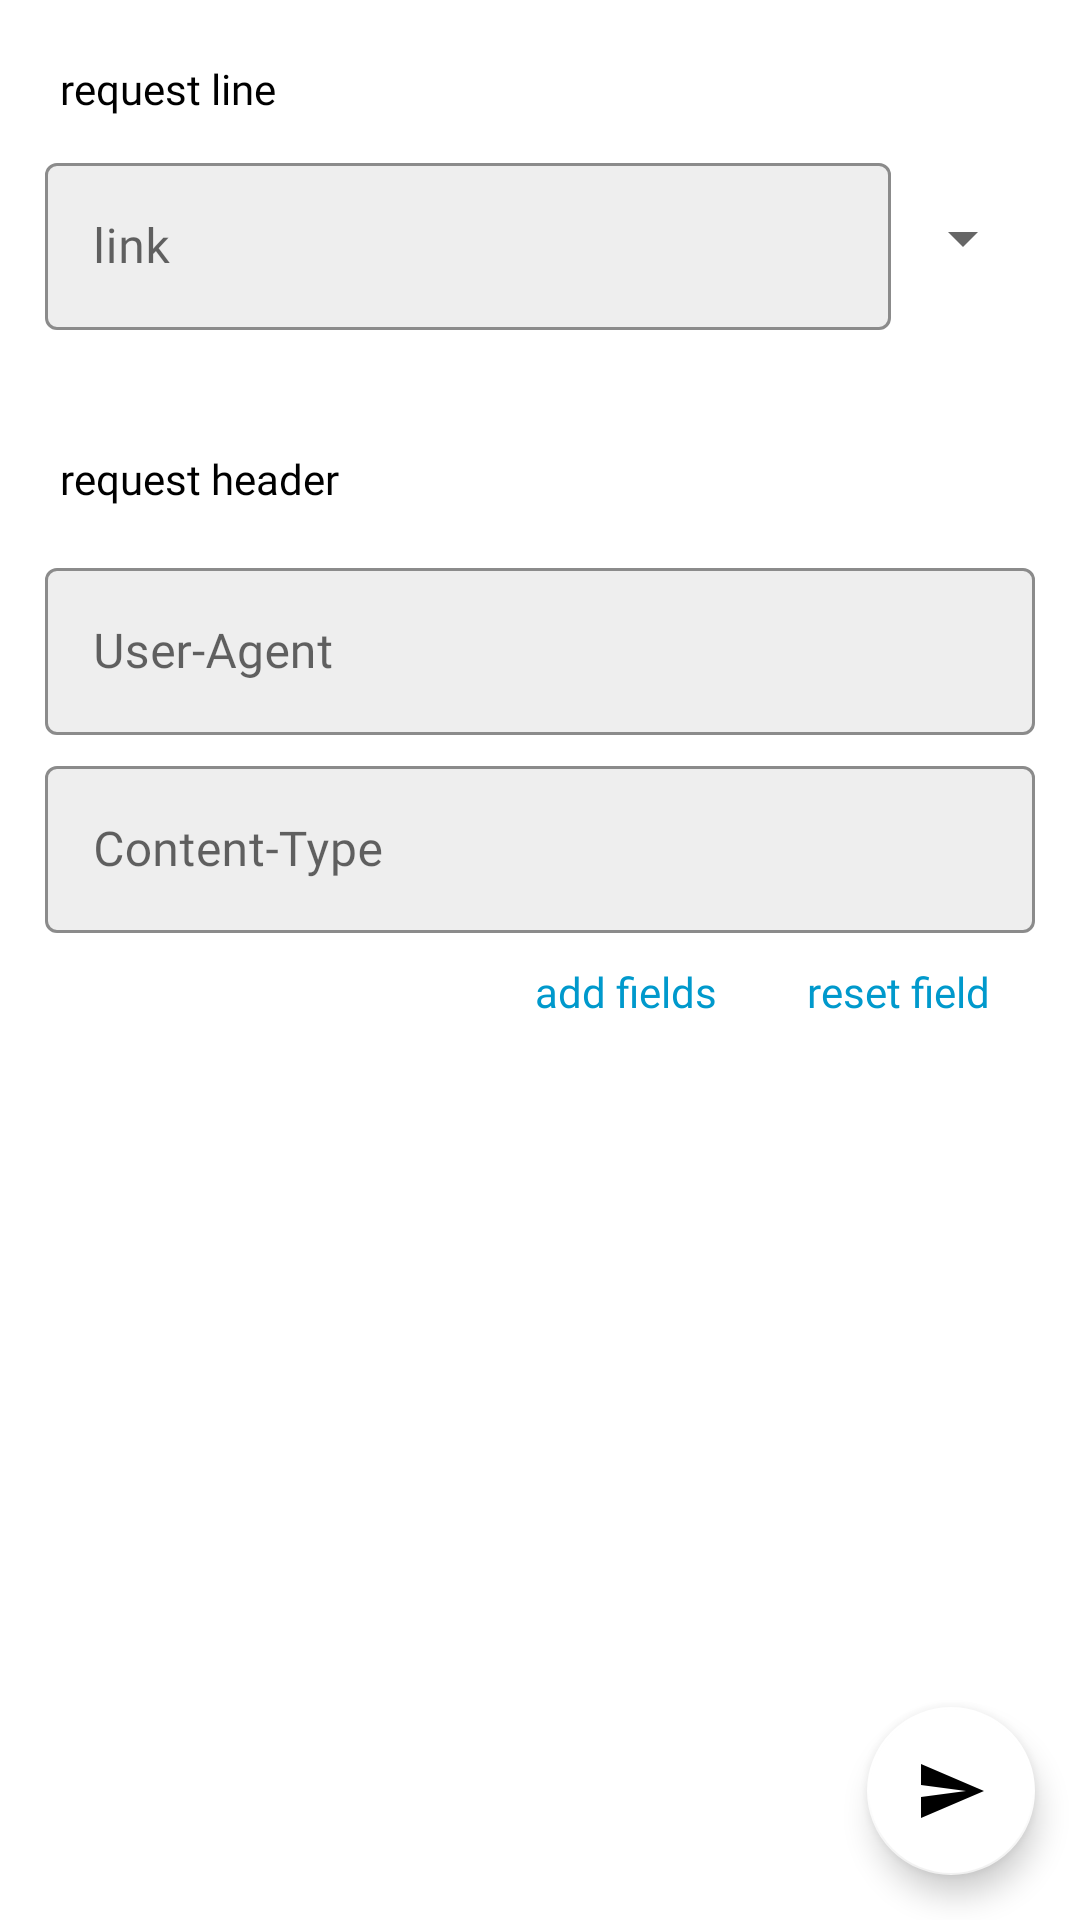

Icons on this 1080*1920 Android screen, each with the point to tap as [x,y]:
request button: [928,1794]
